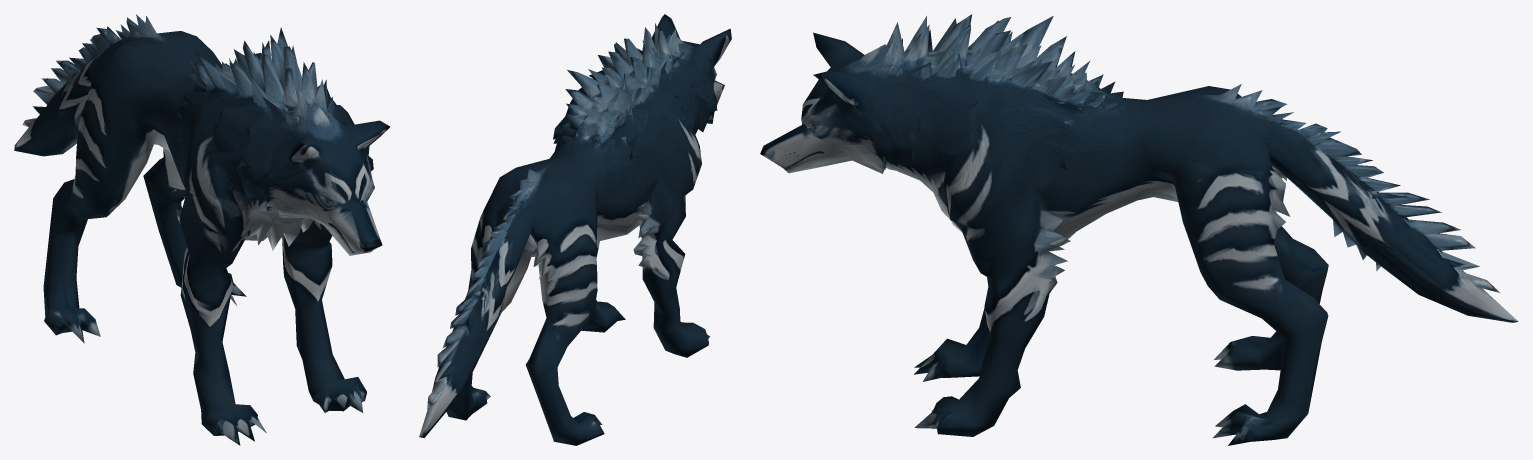
The model's file is Blue+Wolf.glb.
3 renders of one model, left to right at view 1: azimuth 30°, elevation 25°; view 2: azimuth 150°, elevation 25°; view 3: azimuth 270°, elevation 25°, orthographic. The views are drawn at different scales.
Parts seen in each view (by area): view 1: tripo_node_97ca61c9-d4ee-4d8a-ba47-188114225e6d; view 2: tripo_node_97ca61c9-d4ee-4d8a-ba47-188114225e6d; view 3: tripo_node_97ca61c9-d4ee-4d8a-ba47-188114225e6d.
Part boxes in pixels (box(x1,y1,x2,y2)): tripo_node_97ca61c9-d4ee-4d8a-ba47-188114225e6d: box(14, 14, 390, 445); tripo_node_97ca61c9-d4ee-4d8a-ba47-188114225e6d: box(419, 14, 731, 445); tripo_node_97ca61c9-d4ee-4d8a-ba47-188114225e6d: box(760, 14, 1518, 445).
Size of the model in its own units: 0.2962 by 0.5479 by 0.9849.
Materials: 1 (1 with a texture image).
